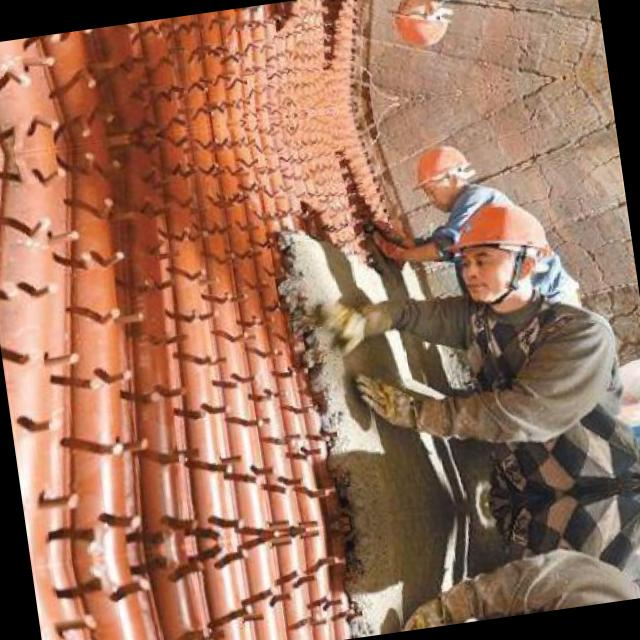helmet: (438, 186, 562, 314), (403, 142, 472, 208), (381, 0, 450, 50)
